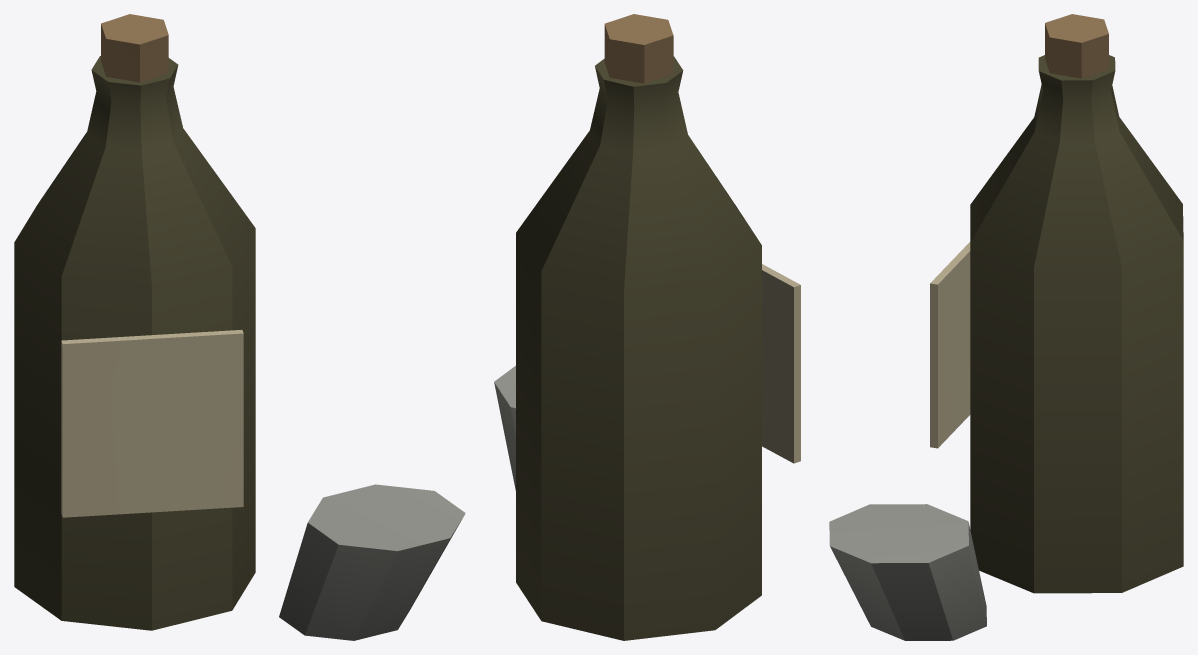
The model's file is ph_item_spirits.glb.
3 views of the same model, side by side, from view 1: azimuth 30°, elevation 25°; view 2: azimuth 150°, elevation 25°; view 3: azimuth 270°, elevation 25° (orthographic). The views are drawn at different scales.
Parts seen in each view (by area): view 1: ph_item_spirits; view 2: ph_item_spirits; view 3: ph_item_spirits.
Part boxes in pixels (x1,y1,x2,y2): ph_item_spirits: (14, 14, 465, 640); ph_item_spirits: (494, 14, 800, 640); ph_item_spirits: (829, 14, 1183, 640).
Size of the model in its own units: 0.1759 by 0.2781 by 0.1693.
